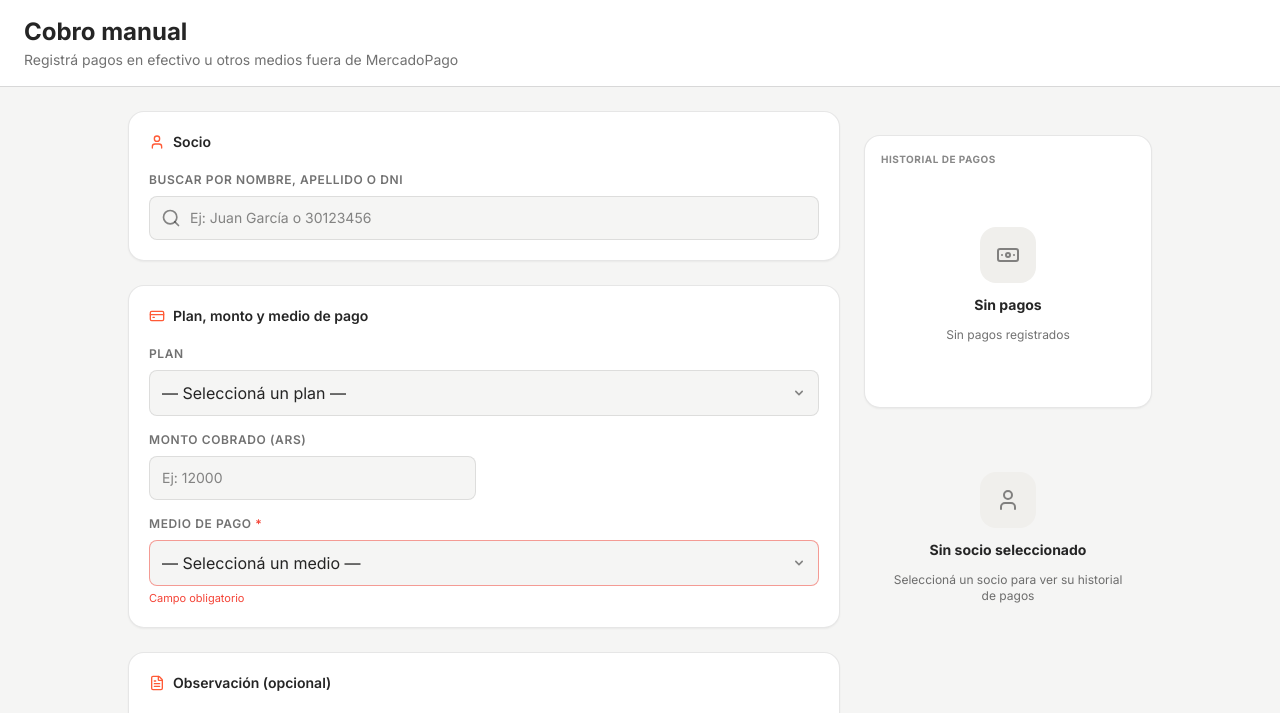
Test: CobroManualPage › permite buscar y seleccionar un socio con teclado
Type "Juan" into the dropdown with placeholder "Ej: Juan García o 30123456" at (484, 218), box [149, 196, 819, 240]
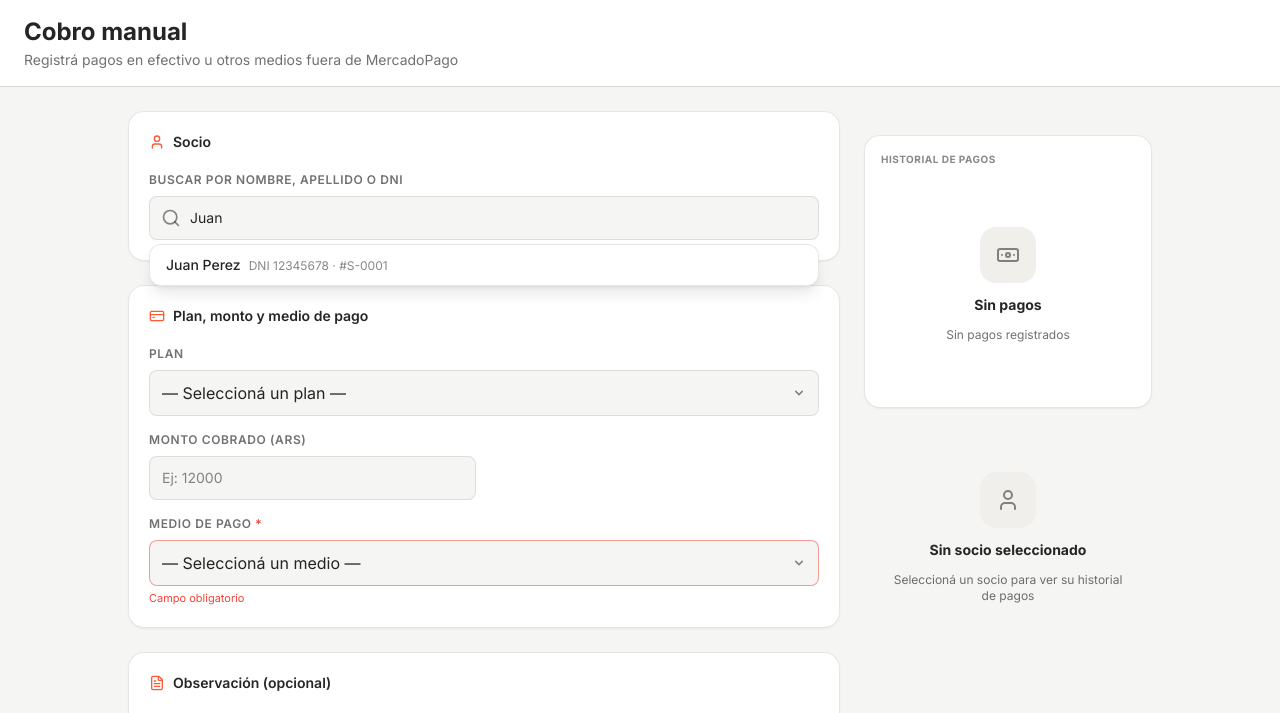
Now the text "Juan Perez" is shown, box [166, 256, 241, 273]
# Simular teclado
Press ArrowDown in the dropdown with placeholder "Ej: Juan García o 30123456", box [149, 196, 819, 240]
Press Enter in the dropdown with placeholder "Ej: Juan García o 30123456", box [149, 196, 819, 240]
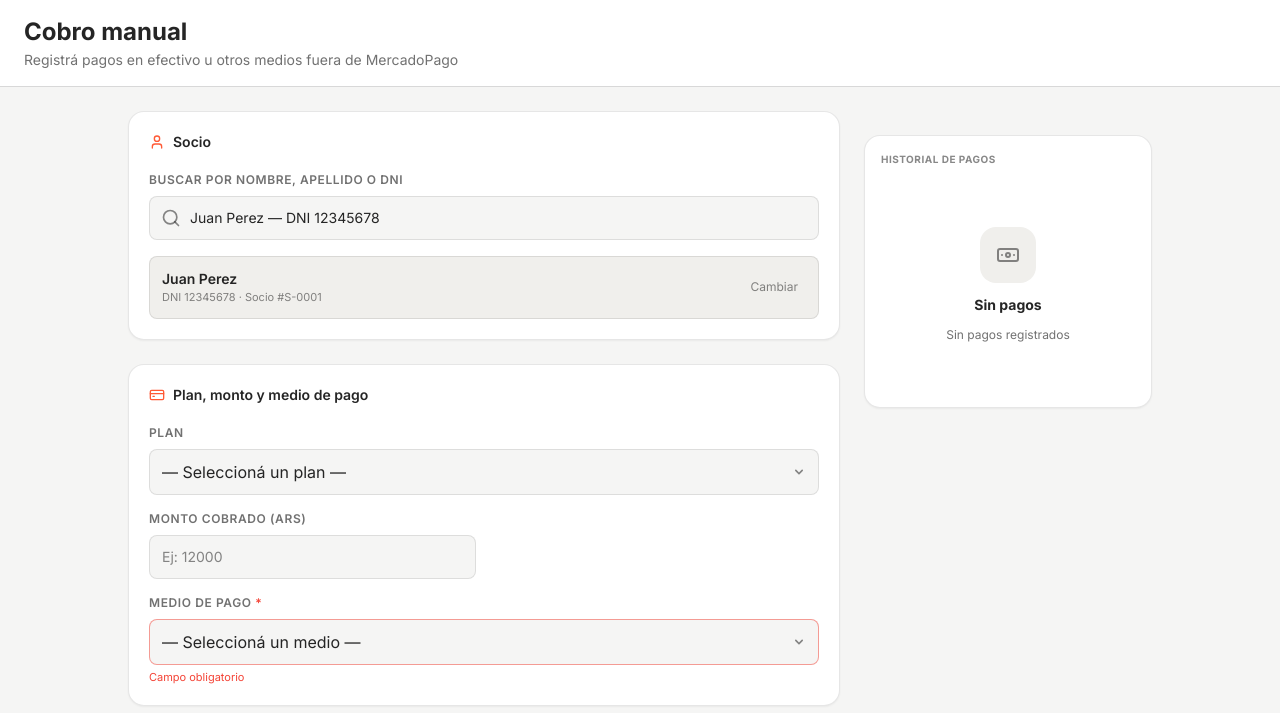
Now the text "DNI 12345678 · Socio #S-0001" is shown, box [162, 289, 322, 306]
